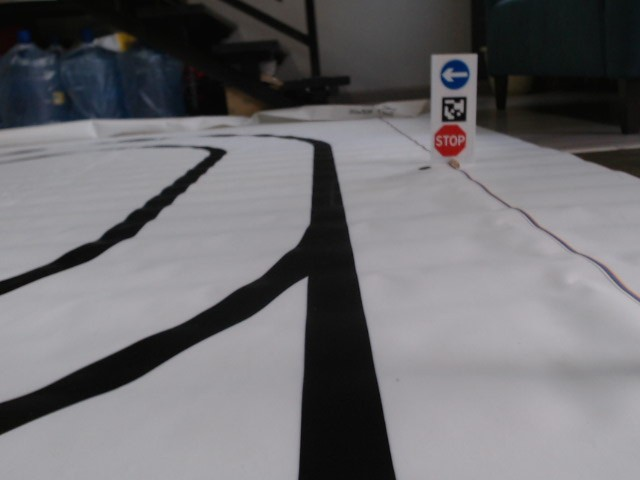Stop: (432, 123, 467, 156)
